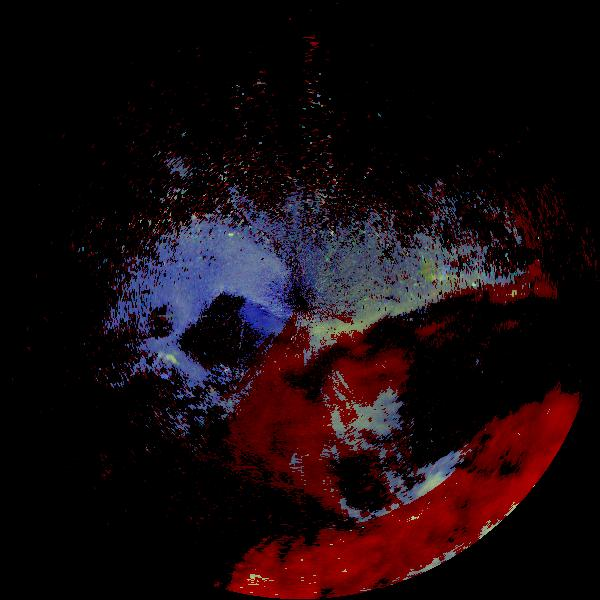roost: (166, 363, 217, 414), (150, 349, 186, 385)
